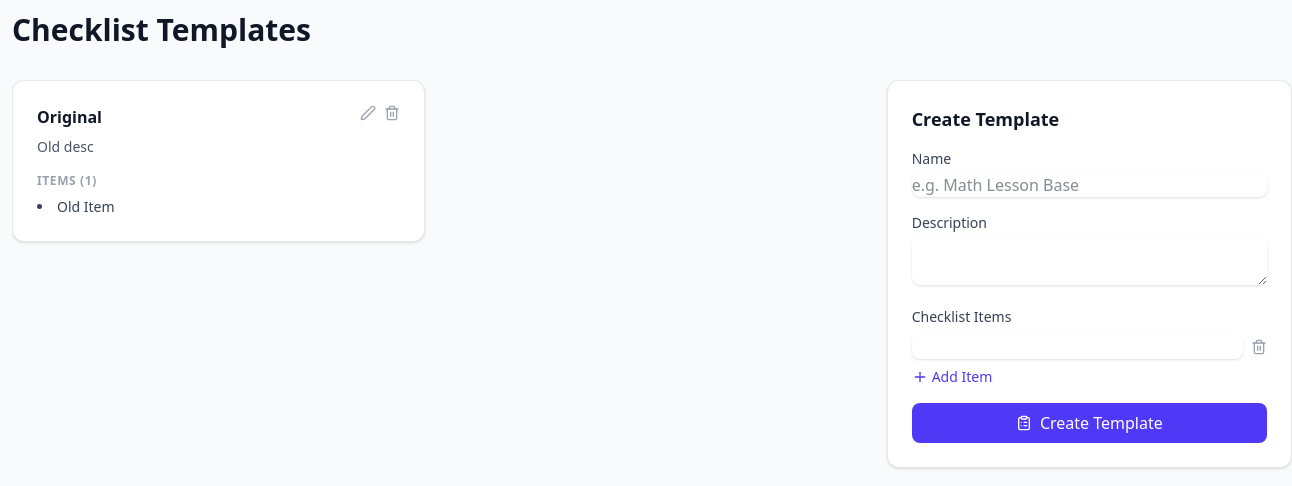
Test: Templates › cancels editing
Check: the heading "Original" is shown, box x1=37 y1=105 x2=102 y2=129
Click the button named "Edit template".
click(368, 113)  # box x1=360 y1=105 x2=376 y2=121
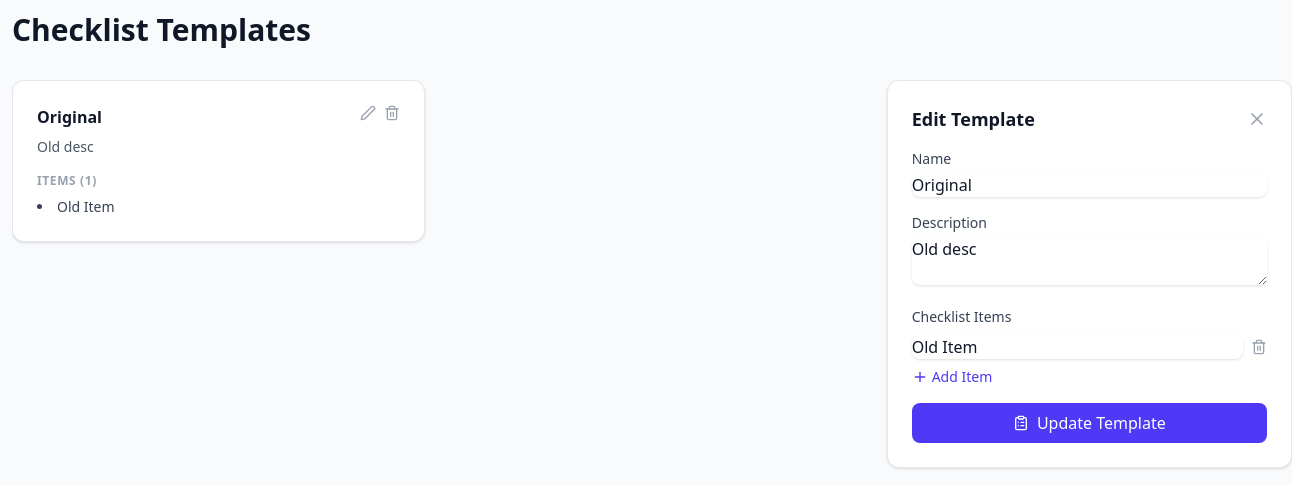
Check: the heading "Edit Template" is shown, box x1=912 y1=105 x2=1035 y2=133
# Click X button to cancel
Click the button named "Cancel editing".
click(1257, 119)  # box x1=1247 y1=109 x2=1267 y2=129
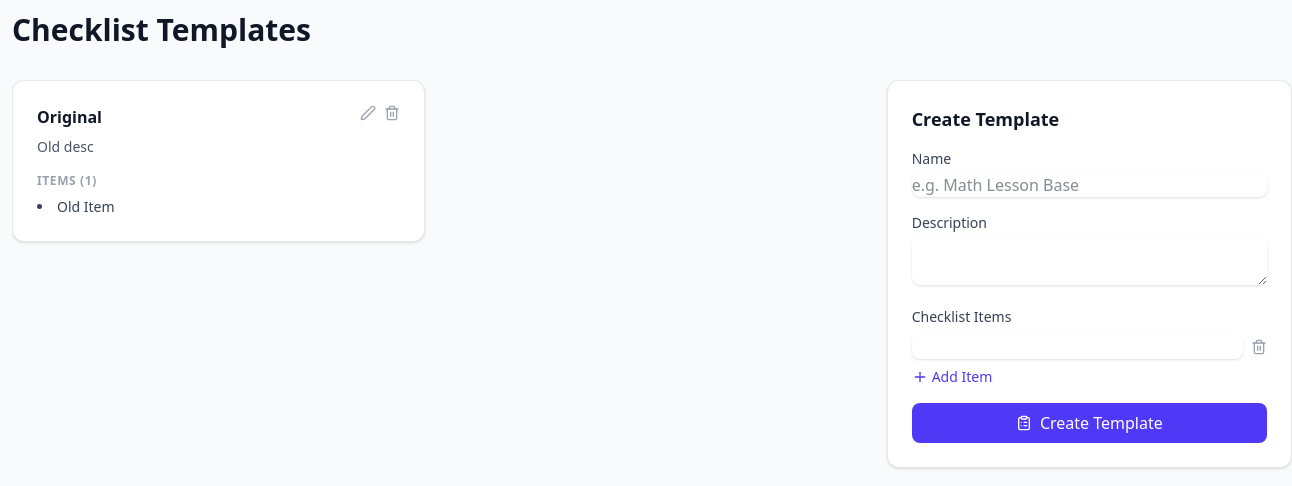
Check: the button "Create Template" is shown, box x1=912 y1=403 x2=1267 y2=443
